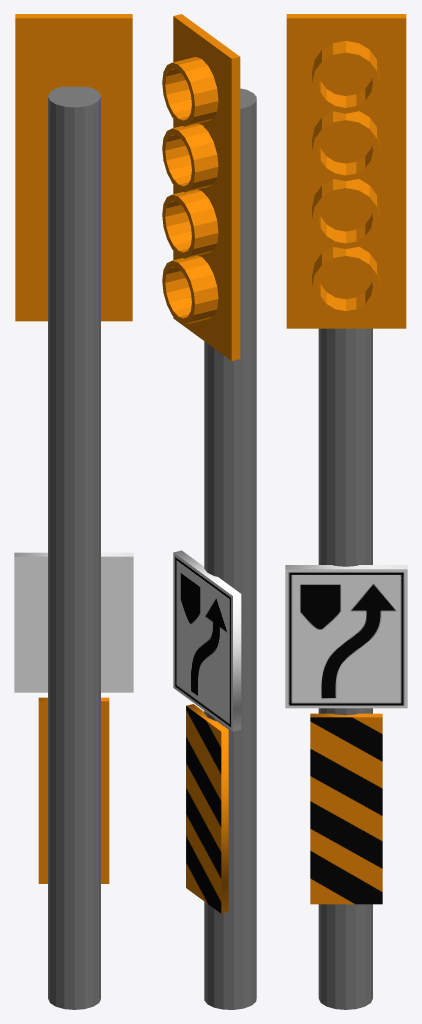
File: traffic_light2.fbx
The picture shows the model from 3 angles, left to right: view 1: azimuth 90°, elevation 25°; view 2: azimuth 210°, elevation 25°; view 3: azimuth 270°, elevation 25°; orthographic projection. The views are drawn at different scales.
Parts seen in each view (by area): view 1: Cylinder.007; view 2: Cylinder.007; view 3: Cylinder.007.
Part boxes in pixels (x1,y1,x2,y2): Cylinder.007: (14,14,133,1009); Cylinder.007: (162,14,256,1009); Cylinder.007: (285,14,407,1009).
Size of the model in its own units: 63.27 by 783 by 87.3.
